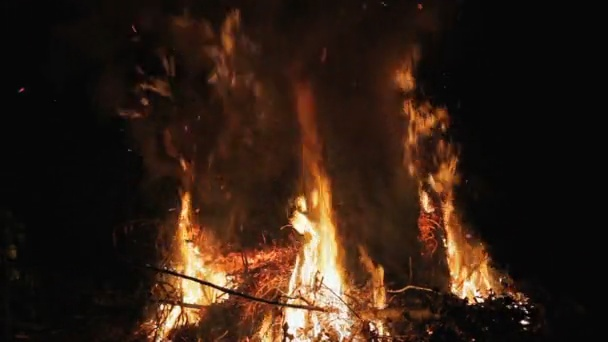fire: (151, 194, 239, 342), (282, 190, 348, 342), (442, 226, 496, 302), (366, 267, 392, 338)
